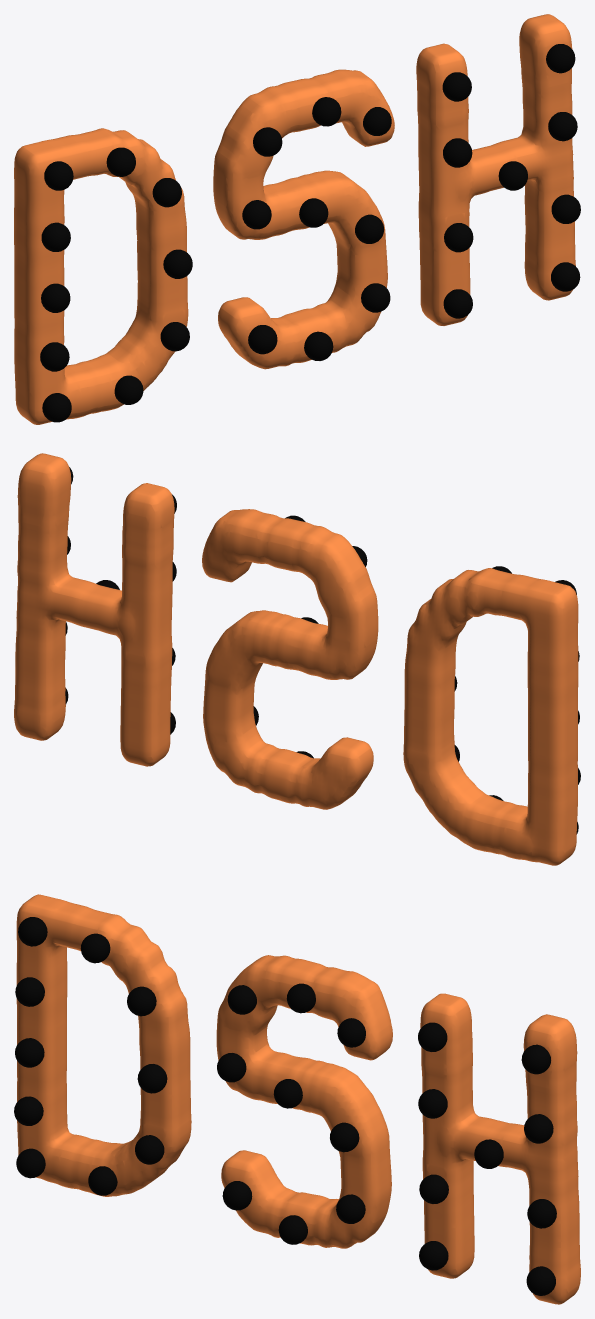
Rendered from dsh_sign.fbx.
The picture shows the model from 3 angles, top to bottom: view 1: azimuth 30°, elevation 25°; view 2: azimuth 150°, elevation 25°; view 3: azimuth 330°, elevation 25°; orthographic projection.
Parts seen in each view (by area): view 1: Mball.102, Icosphere.008; view 2: Mball.102, Icosphere.008; view 3: Mball.102, Icosphere.008.
Boxes of the visible parts, x1,y1,x2,y2 form: Mball.102: (14, 14, 575, 424); Icosphere.008: (40, 44, 580, 422); Mball.102: (14, 453, 578, 865); Icosphere.008: (65, 467, 580, 834); Mball.102: (16, 894, 580, 1304); Icosphere.008: (14, 917, 556, 1295).
Bounding box in the file's own units: 699 × 337 × 76.08.
